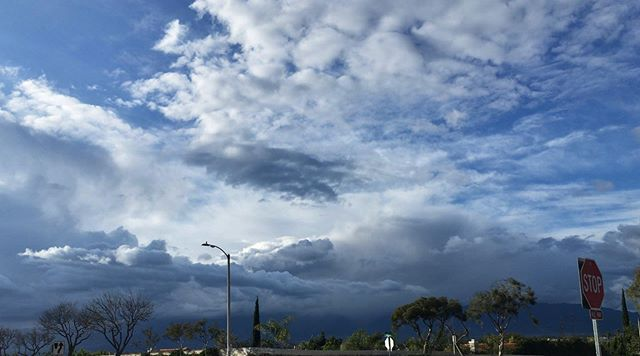sign: (570, 256, 613, 315)
sky: (12, 1, 640, 283)
tree: (460, 276, 541, 356), (390, 290, 465, 350), (81, 293, 150, 356), (40, 297, 95, 356)
